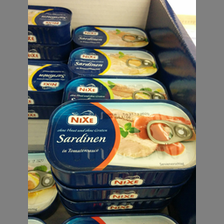fish: (44, 98, 196, 186), (62, 77, 169, 101), (68, 48, 158, 76), (70, 25, 149, 47)
